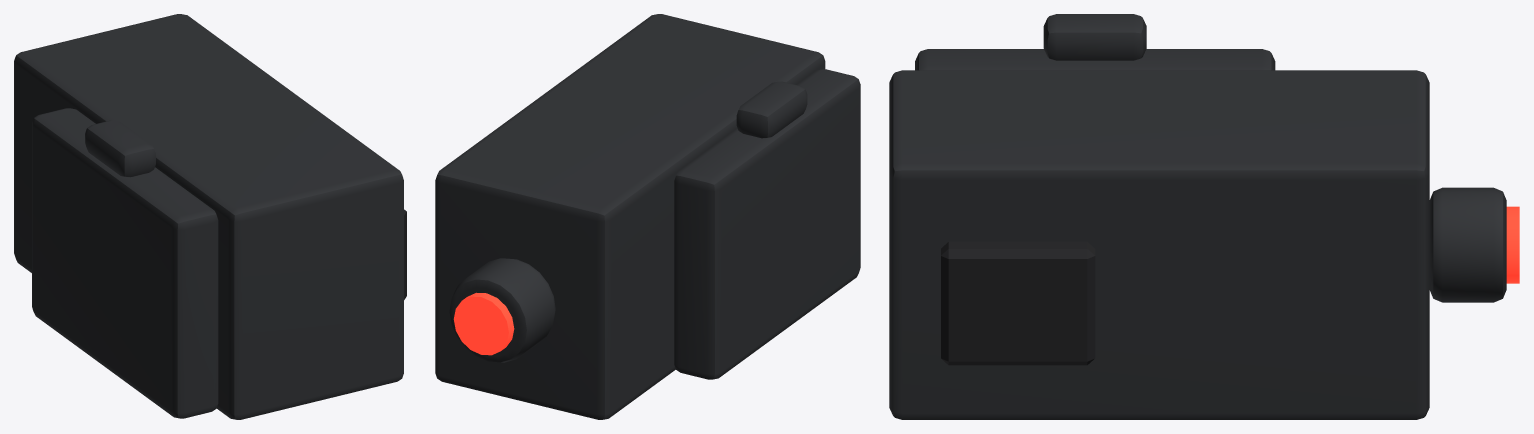
The model's file is mod_rail_laser.glb.
The picture shows the model from 3 angles, left to right: view 1: azimuth 30°, elevation 25°; view 2: azimuth 150°, elevation 25°; view 3: azimuth 270°, elevation 25°; orthographic projection. The views are drawn at different scales.
Parts seen in each view (by area): view 1: LaserModule; view 2: LaserModule, LaserModuleLens; view 3: LaserModule, LaserModuleSwitch, LaserModuleLens.
Part boxes in pixels (left/top/right/bottom): LaserModule: left=14, top=14, right=403, bottom=419; LaserModule: left=435, top=14, right=860, bottom=419; LaserModuleLens: left=453, top=292, right=514, bottom=355; LaserModule: left=889, top=14, right=1506, bottom=419; LaserModuleSwitch: left=941, top=241, right=1095, bottom=365; LaserModuleLens: left=1506, top=206, right=1519, bottom=283.
Bounding box in the file's own units: 0.0265 × 0.0245 × 0.049.
